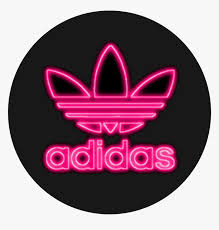adidas: (43, 43, 177, 172)
